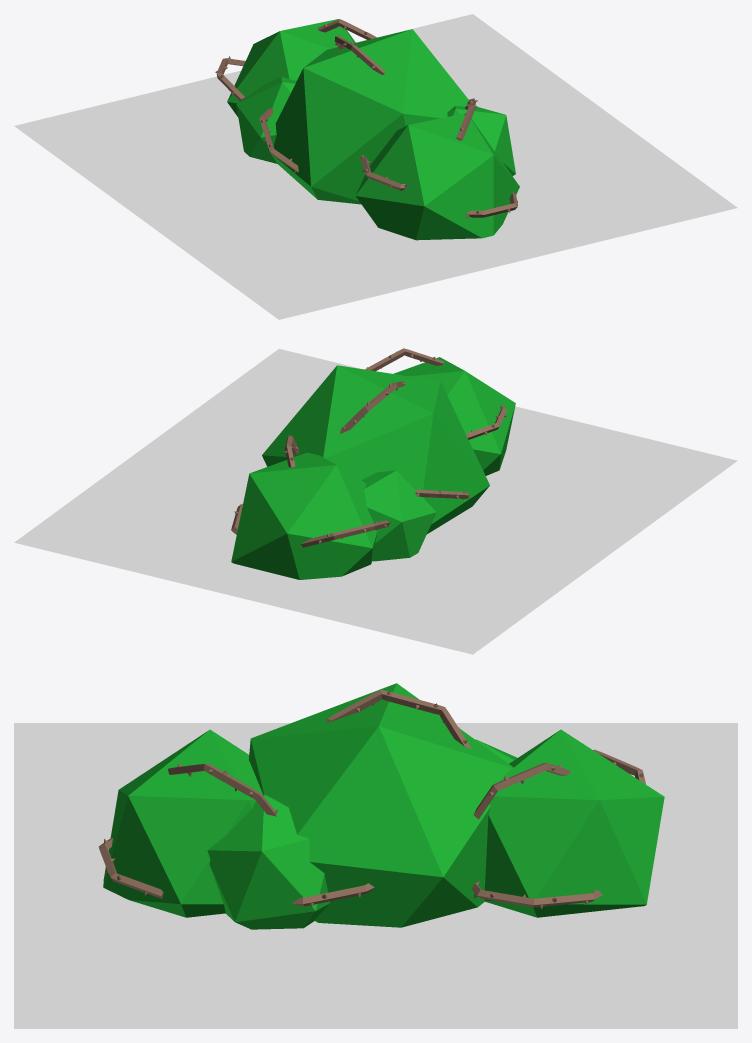
Rendered from PoisonRoots_NatureBarricade.fbx.
3 renders of one model, top to bottom at view 1: azimuth 30°, elevation 25°; view 2: azimuth 150°, elevation 25°; view 3: azimuth 270°, elevation 25°, orthographic. The views are drawn at different scales.
Visible parts, largest first — view 1: BaseCuting.001, BaseCuting, Bush, Bush.001, Bush.002, Bush.004, Thorn.005; view 2: BaseCuting.001, Bush, BaseCuting, Bush.002, Bush.004, Thorn.002, Thorn.003, Thorn.006; view 3: BaseCuting.001, Bush, BaseCuting, Bush.002, Bush.001, Bush.003, Thorn.006, Thorn.007, Thorn.003, Thorn, Thorn.008, Thorn.004.
Part boxes in pixels (x1,y1,x2,y2): BaseCuting.001: [14, 14, 737, 319]; BaseCuting: [93, 47, 640, 286]; Bush: [227, 29, 519, 239]; Bush.001: [376, 125, 519, 240]; Bush.002: [227, 19, 355, 102]; Bush.004: [236, 76, 296, 156]; Thorn.005: [259, 108, 298, 173]; BaseCuting.001: [14, 349, 737, 654]; Bush: [242, 357, 515, 579]; BaseCuting: [93, 382, 658, 604]; Bush.002: [231, 452, 375, 577]; Bush.004: [361, 470, 436, 561]; Thorn.002: [300, 520, 390, 547]; Thorn.003: [365, 348, 444, 371]; Thorn.006: [340, 381, 405, 433]; BaseCuting.001: [14, 723, 737, 1028]; Bush: [103, 683, 664, 927]; BaseCuting: [92, 756, 659, 995]; Bush.002: [485, 729, 663, 904]; Bush.001: [103, 790, 225, 917]; Bush.003: [211, 833, 329, 929]; Thorn.006: [326, 689, 471, 748]; Thorn.007: [472, 881, 602, 909]; Thorn.003: [168, 762, 278, 816]; Thorn: [474, 763, 570, 819]; Thorn.008: [98, 837, 163, 898]; Thorn.004: [291, 883, 374, 907].
Size of the model in its own units: 2300 by 860 by 2300.
